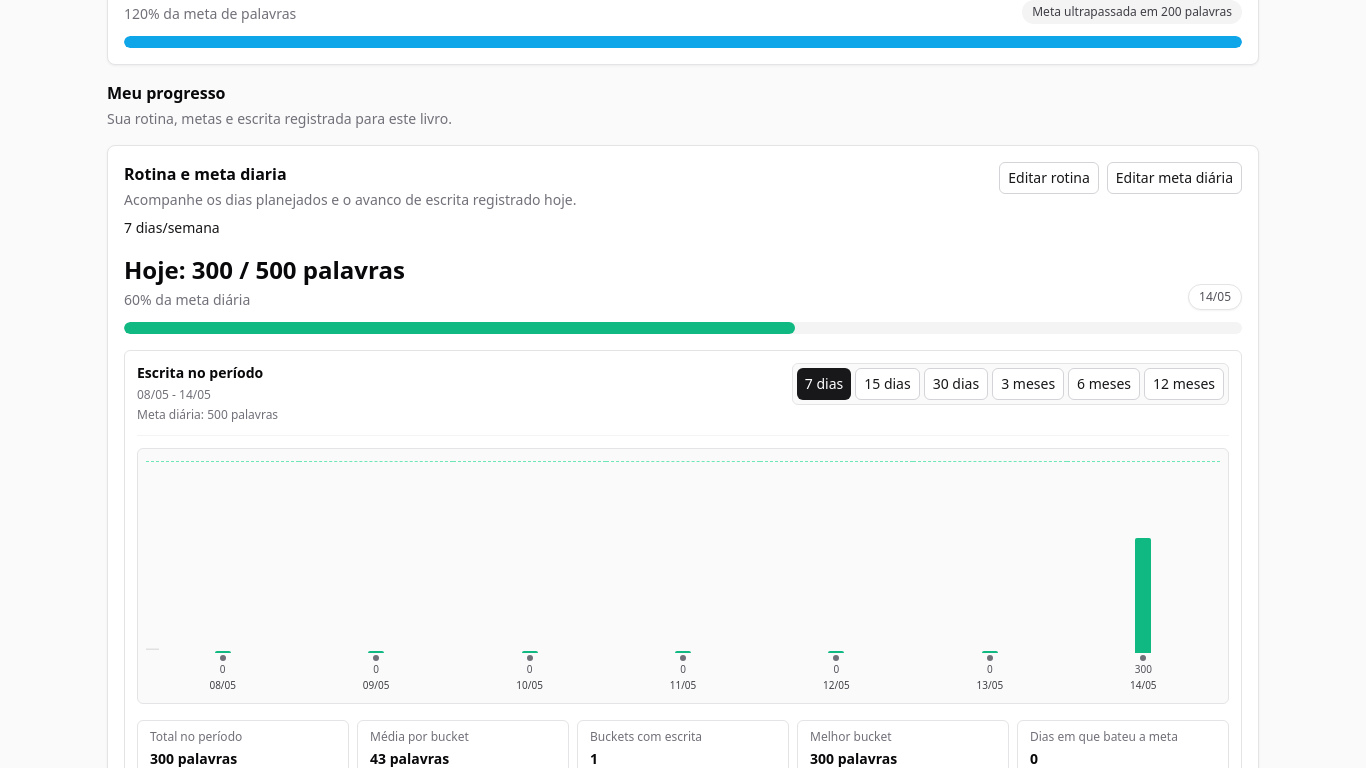
BookDashboard › trocar período mantém analytics visível durante refetch
(page scrolled)
Click the button "30 dias" at (956, 384), box [924, 368, 988, 400]
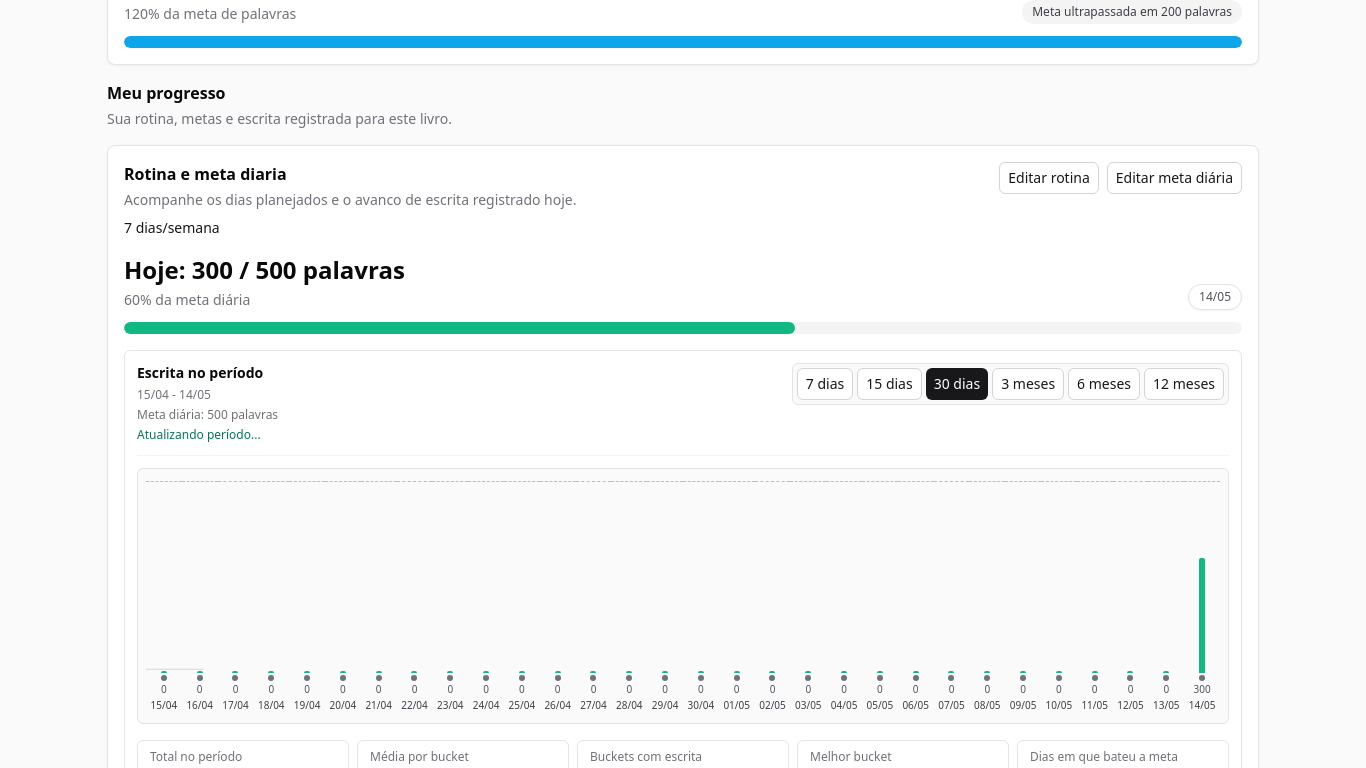
Now the picture named "30 dias" is shown, box [137, 468, 1229, 728]
Now the text "Atualizando período..." is shown, box [137, 427, 278, 443]
Now the number of elements with test id "daily-progress-vertical-bar" is 30
